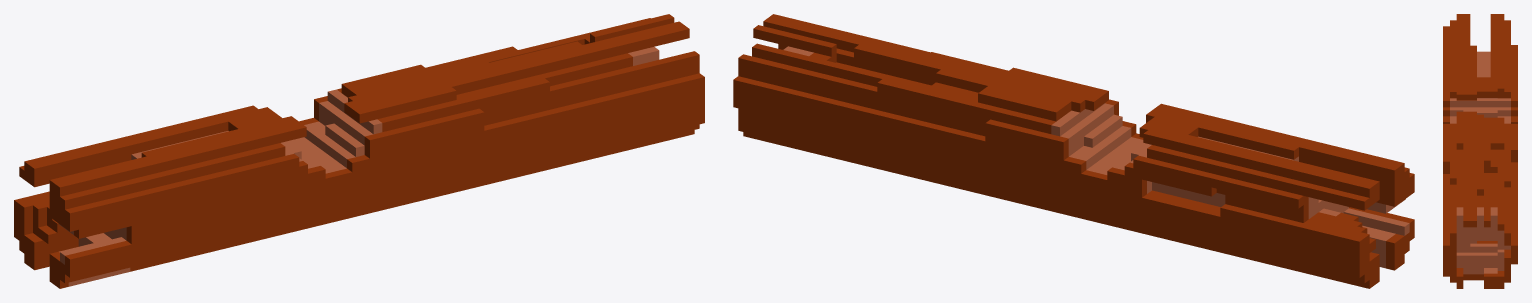
Rendered from All-0-Doroga_Zaval.obj.
3 renders of one model, left to right at view 1: azimuth 30°, elevation 25°; view 2: azimuth 150°, elevation 25°; view 3: azimuth 270°, elevation 25°, orthographic. The views are drawn at different scales.
Visible parts, largest first — view 1: Doroga_Zaval; view 2: Doroga_Zaval; view 3: Doroga_Zaval.
Boxes of the visible parts, x1,y1,x2,y2 form: Doroga_Zaval: (14,14,704,288); Doroga_Zaval: (733,14,1414,288); Doroga_Zaval: (1443,14,1517,288).
Size of the model in its own units: 7.2 by 1.1 by 1.1.
1 material, 1 textured.
